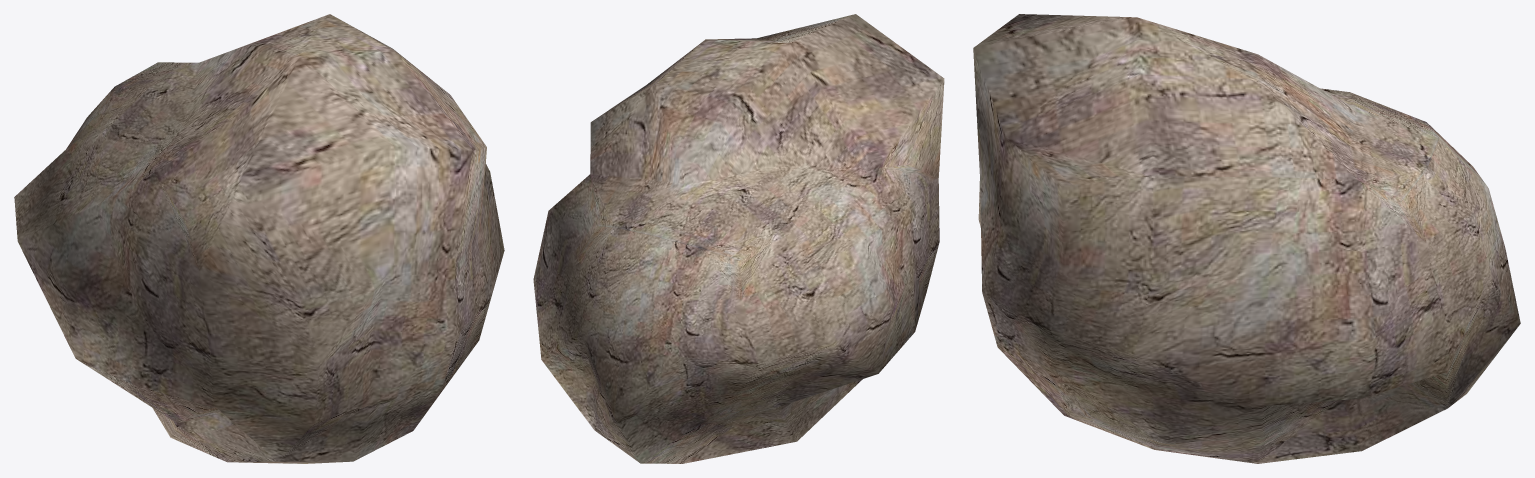
File: stone_02.fbx
3 views of the same model, side by side, from view 1: azimuth 30°, elevation 25°; view 2: azimuth 150°, elevation 25°; view 3: azimuth 270°, elevation 25° (orthographic). The views are drawn at different scales.
Visible parts, largest first — view 1: pCube5; view 2: pCube5; view 3: pCube5.
Part boxes in pixels (box(x1,y1,x2,y2)): pCube5: box(14, 14, 504, 463); pCube5: box(533, 14, 944, 463); pCube5: box(973, 14, 1520, 463).
Size of the model in its own units: 1.58 by 1.67 by 1.99.
